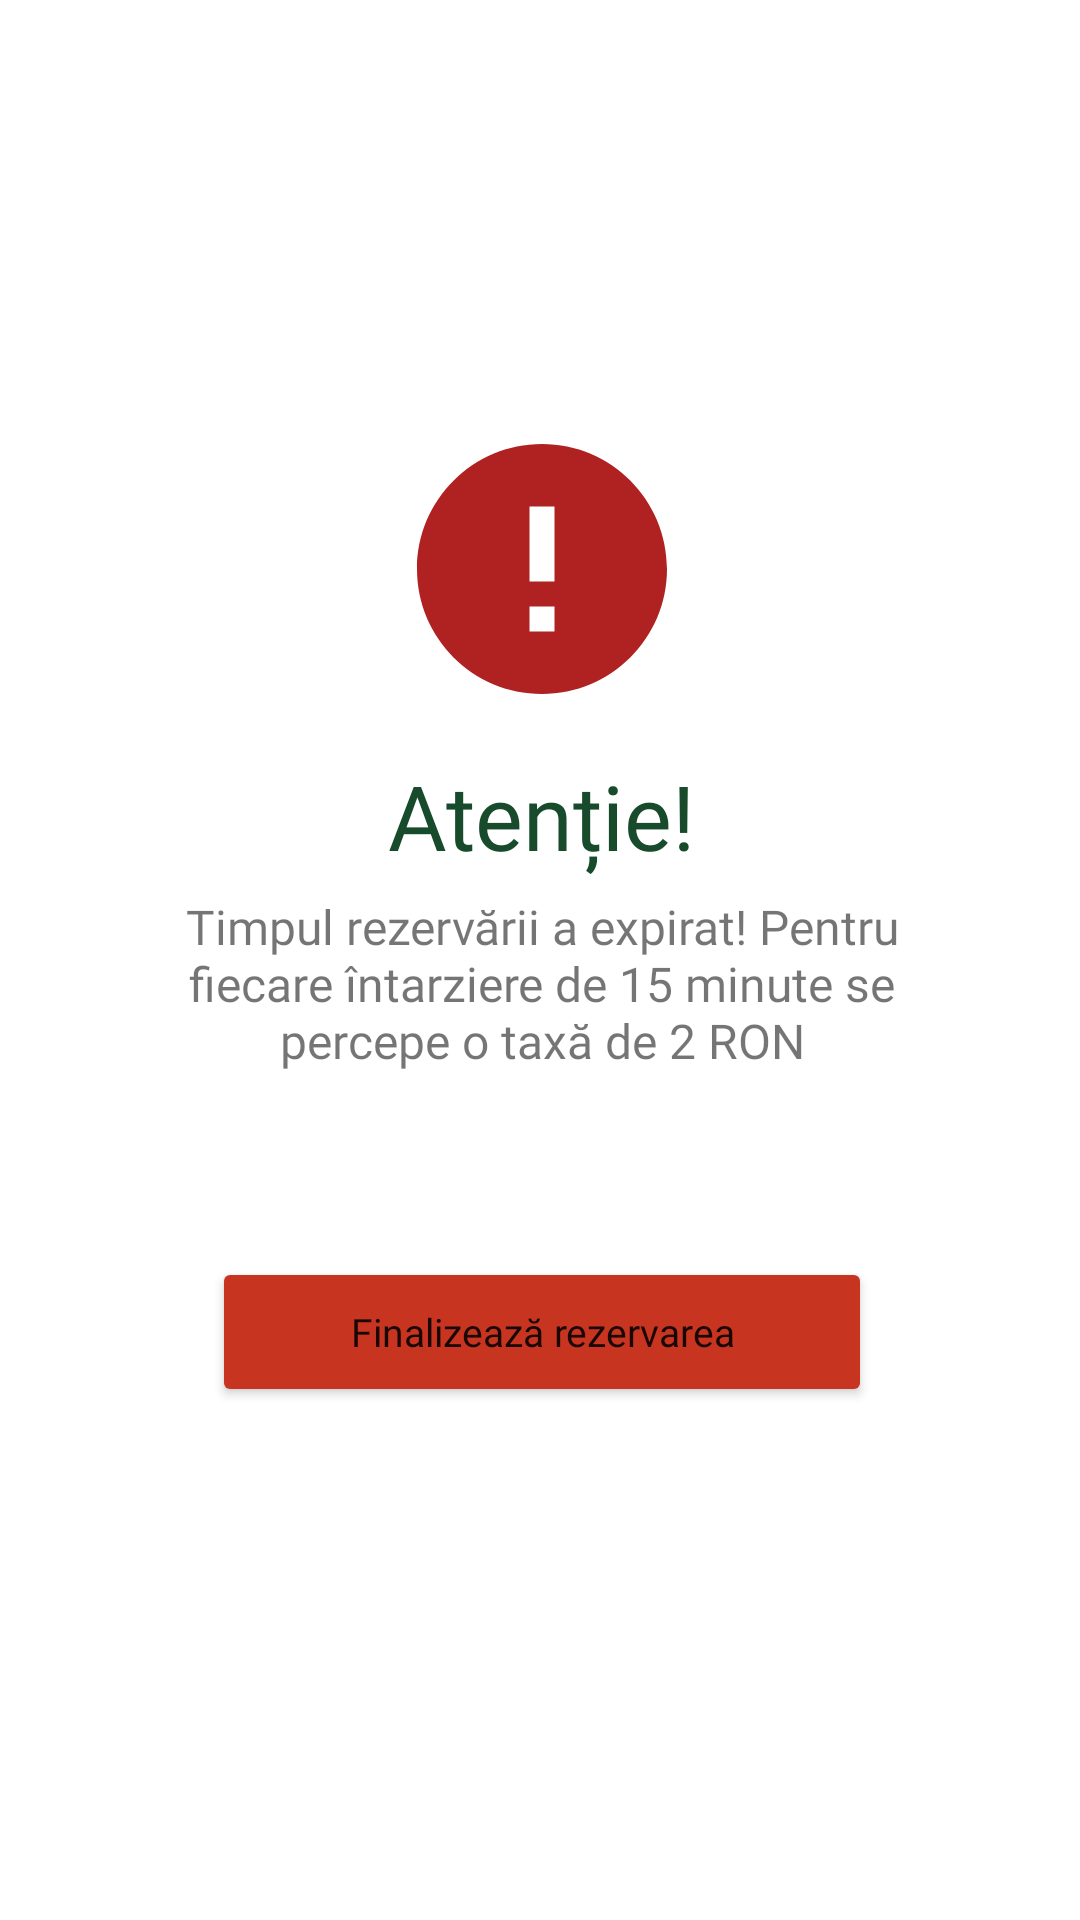

Where icons sit on this 1080*1920 app screen, as (x1, y1, x2, y2):
error: (417, 444, 667, 694)
